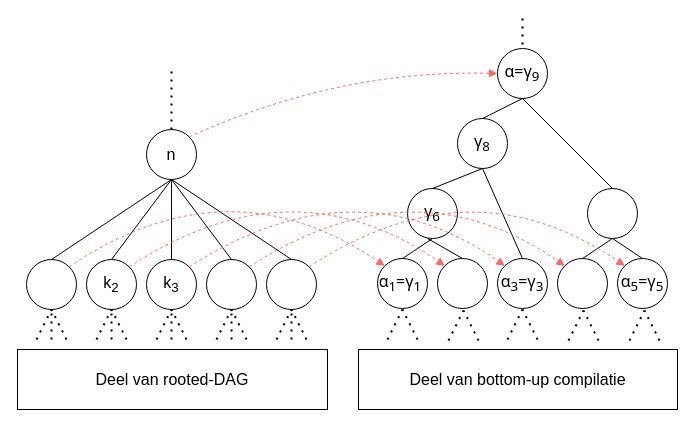
This 695x427 diagram has some shape labels left out. The shapes that lost their labels are listed below. From the top down, each one's box as (x1, y1, x2, y2) in pixels, then its label:
(586, 188, 638, 238): γ 7
(26, 258, 76, 310): k 1
(206, 258, 256, 310): k 4
(266, 258, 316, 310): k 5
(436, 258, 488, 308): α 2 = γ 2
(556, 258, 608, 308): α 4 = γ 4
